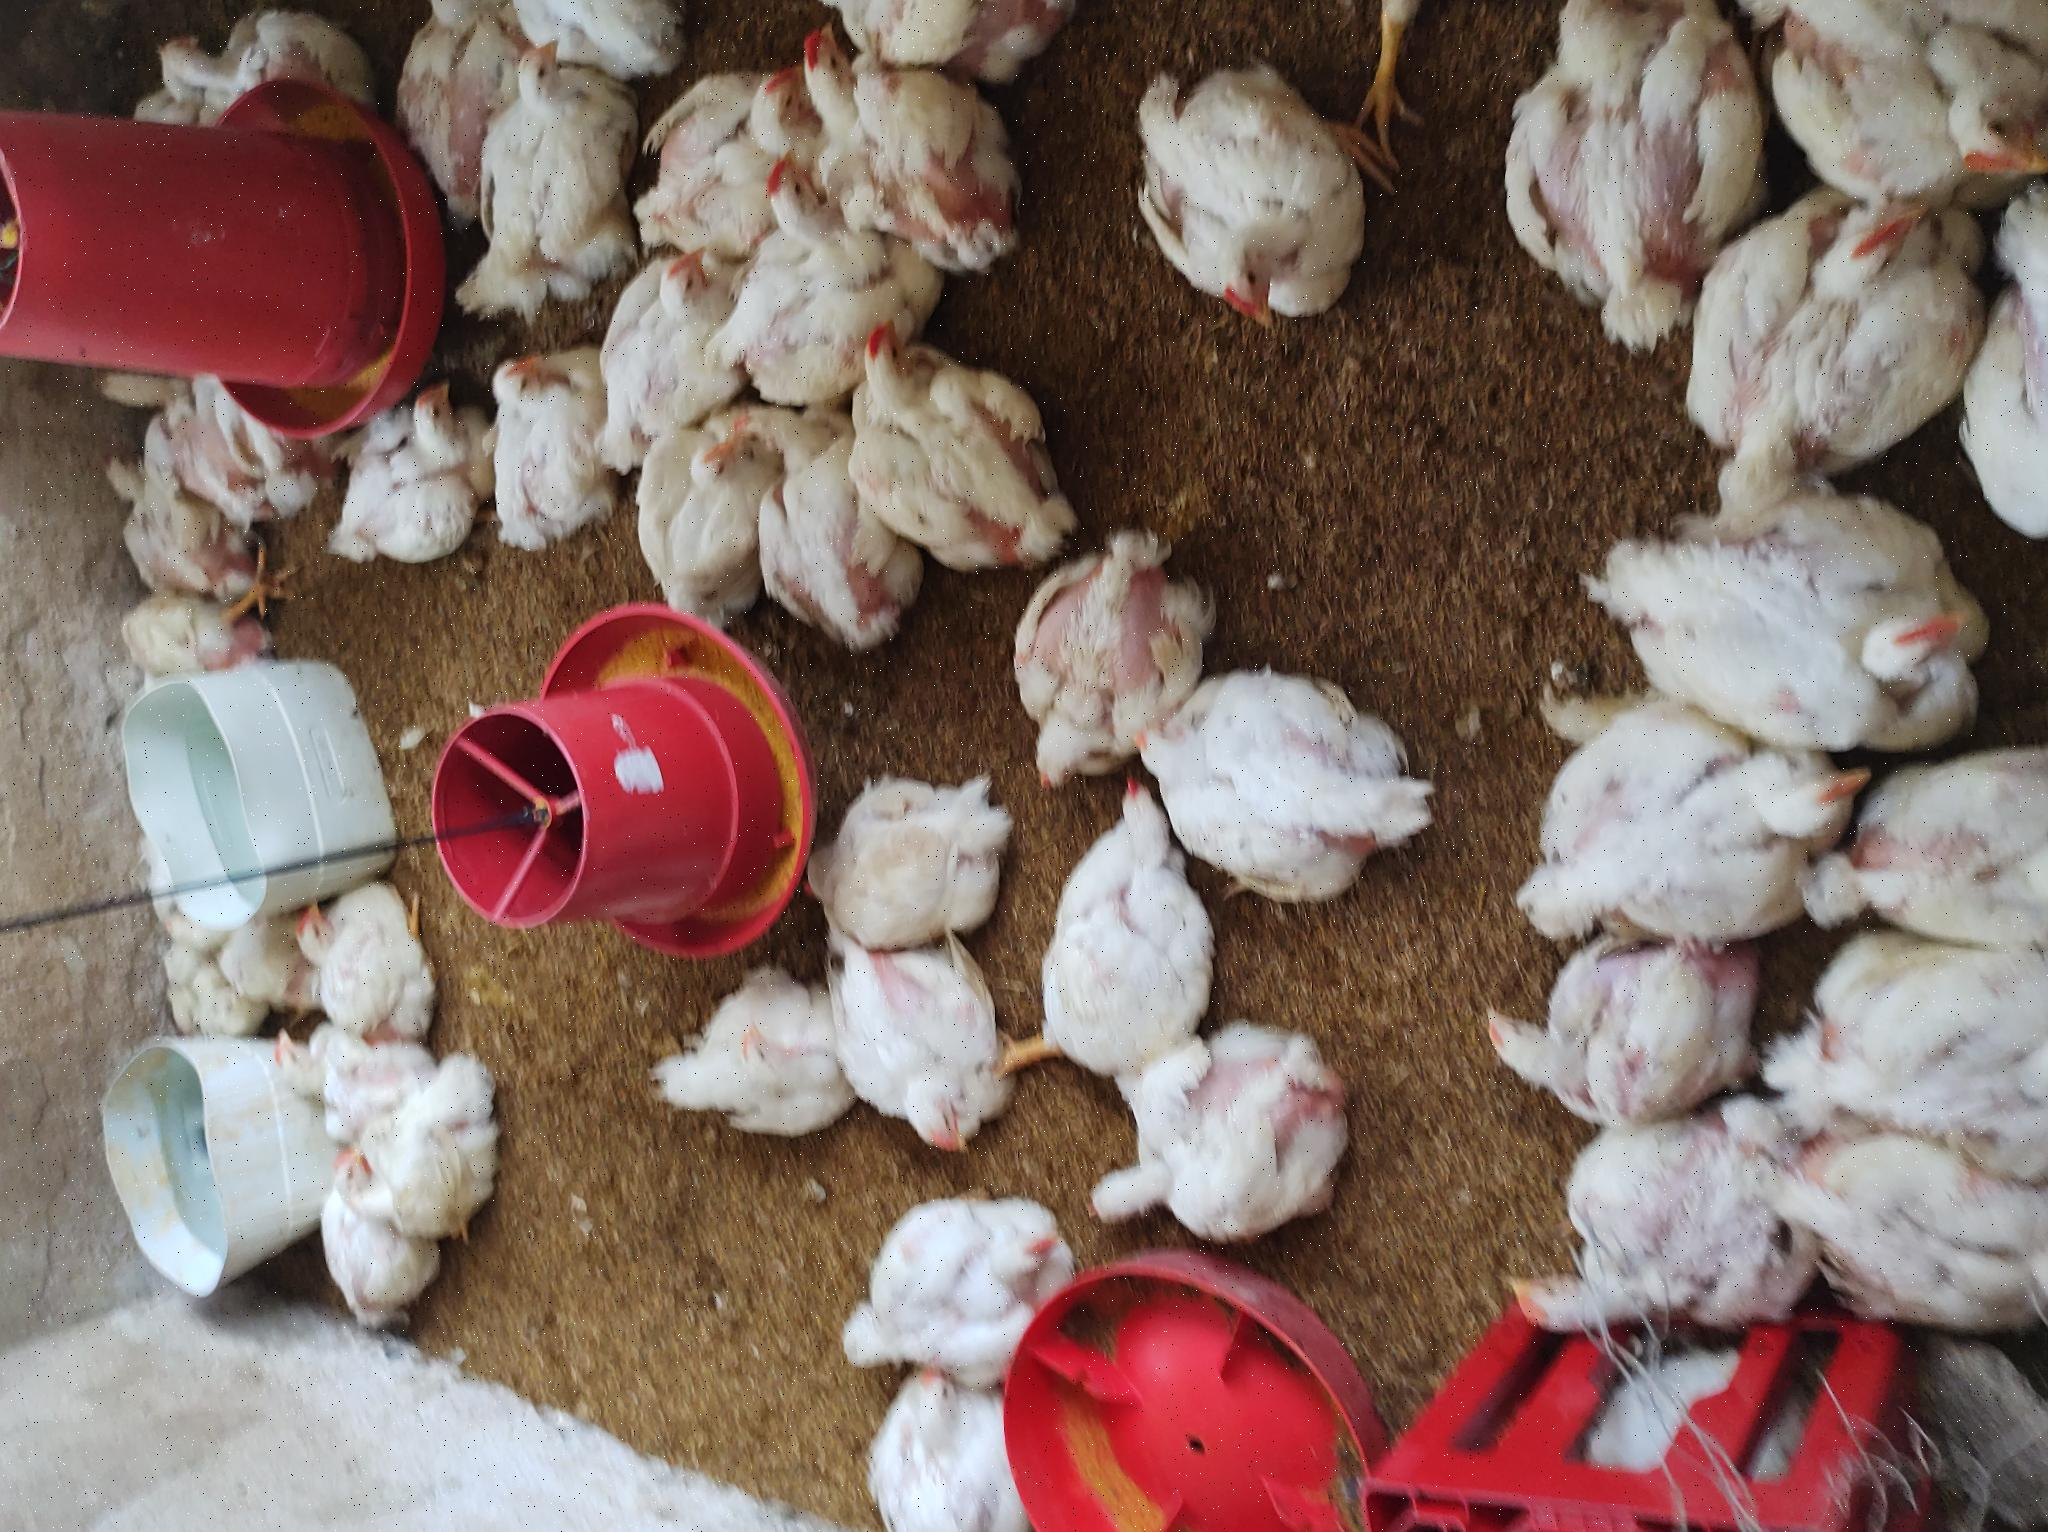Pollos: (1195, 1138, 1482, 1373), (632, 1135, 845, 1440), (265, 1094, 504, 1339), (468, 1006, 750, 1207), (1277, 801, 1524, 1030), (738, 1017, 997, 1220), (370, 813, 581, 1052), (589, 792, 798, 1011), (167, 822, 346, 1064), (994, 861, 1208, 1060), (1256, 467, 1490, 631), (380, 649, 573, 813), (977, 309, 1137, 483), (1096, 586, 1287, 724), (914, 616, 1097, 747), (985, 488, 1184, 603), (1329, 653, 1472, 805), (513, 294, 663, 438), (1409, 138, 1532, 303), (407, 257, 524, 423), (64, 872, 201, 1012), (206, 322, 413, 410), (853, 106, 949, 285), (412, 1461, 605, 1532), (169, 1474, 402, 1532), (1096, 101, 1197, 212), (1260, 752, 1353, 855), (1070, 727, 1176, 814), (1005, 85, 1100, 156)
